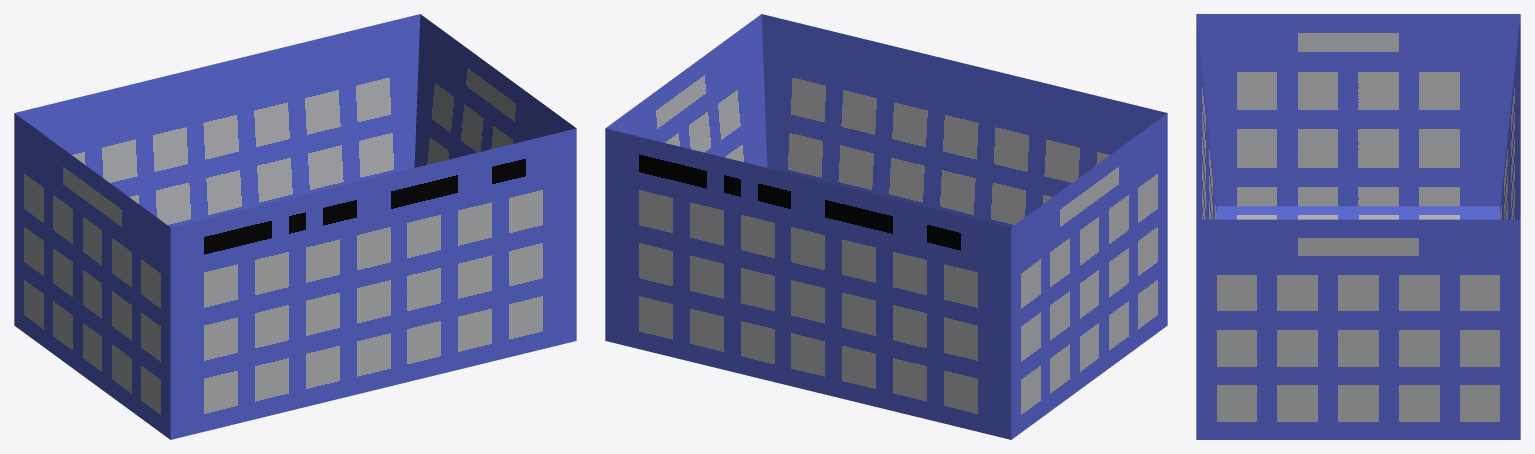
File: MilkCrate.gltf
The picture shows the model from 3 angles, left to right: view 1: azimuth 30°, elevation 25°; view 2: azimuth 150°, elevation 25°; view 3: azimuth 270°, elevation 25°; orthographic projection. The views are drawn at different scales.
Visible parts, largest first — view 1: mesh; view 2: mesh; view 3: mesh.
Part boxes in pixels (x1,y1,x2,y2): mesh: [14, 14, 576, 439]; mesh: [605, 14, 1167, 439]; mesh: [1196, 14, 1520, 439].
Bounding box in the file's own units: 1.5 × 0.75 × 1.
Materials: 1 (1 with a texture image).
